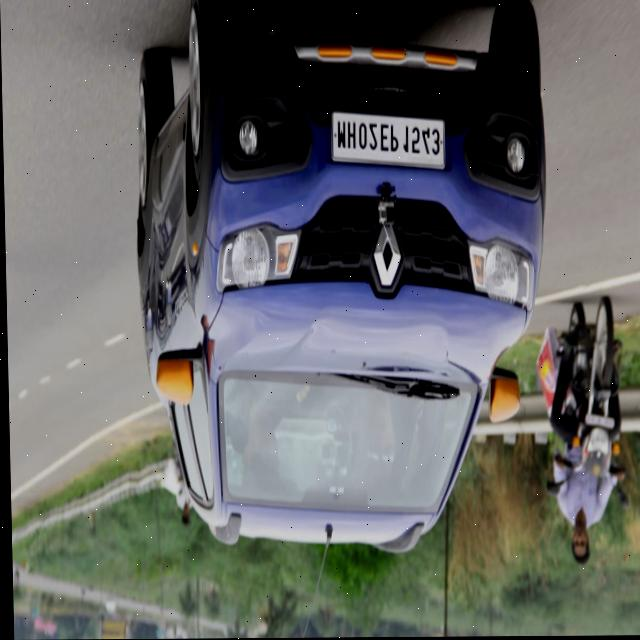plate: (323, 104, 451, 175), (581, 413, 614, 435)
